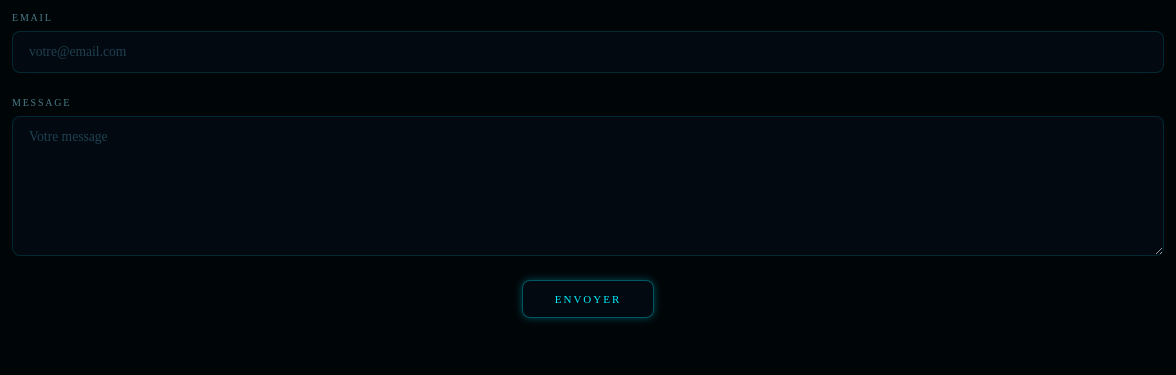
Test case: ContactForm › displays default error message for unknown error key
Type "test@example.com" into the field labelled "Email" at {"x": 588, "y": 52}, box top-left (12, 31), bottom-right (1164, 73)
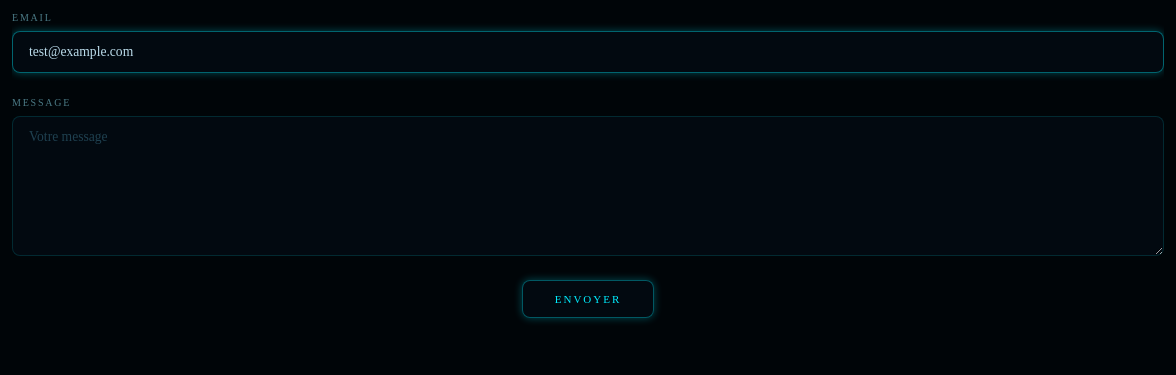
Type "Un message valide de test." into the text box labelled "Message" at {"x": 588, "y": 186}, box top-left (12, 116), bottom-right (1164, 256)
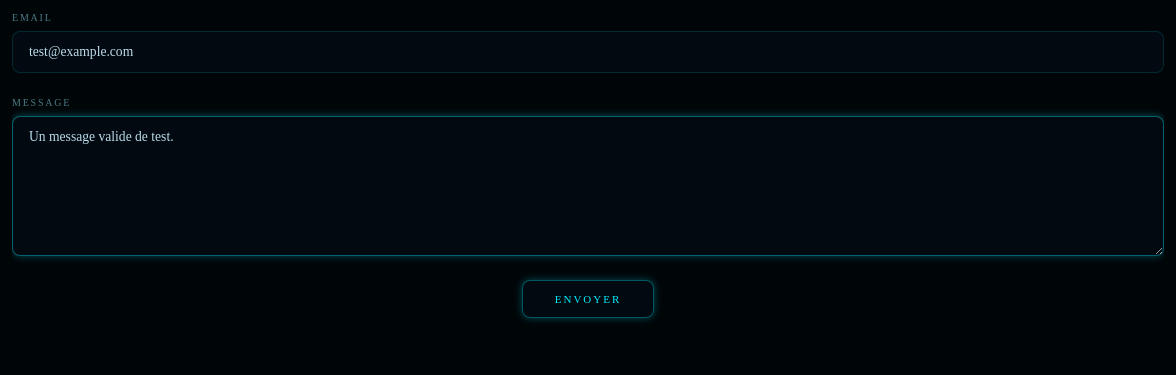
Click the button "Envoyer" at {"x": 588, "y": 299}, box top-left (522, 280), bottom-right (654, 318)
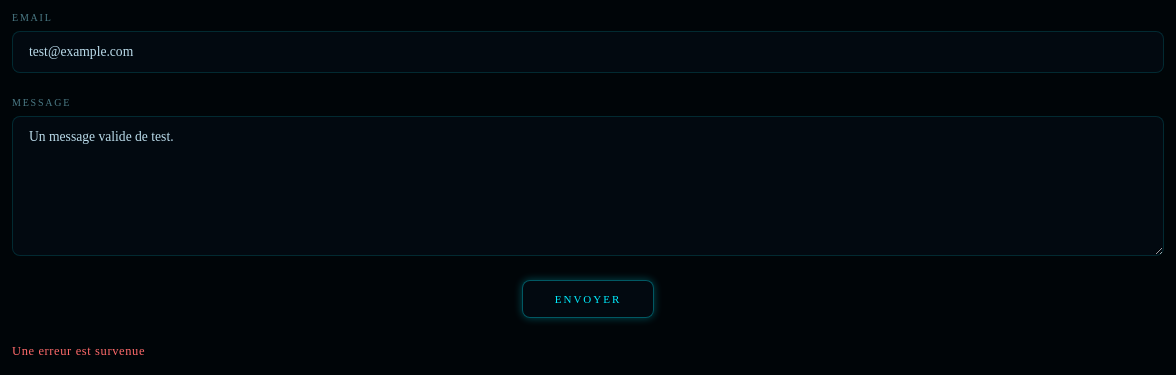
Expected: the text "Une erreur est survenue" is shown, top-left (12, 344), bottom-right (145, 358)
